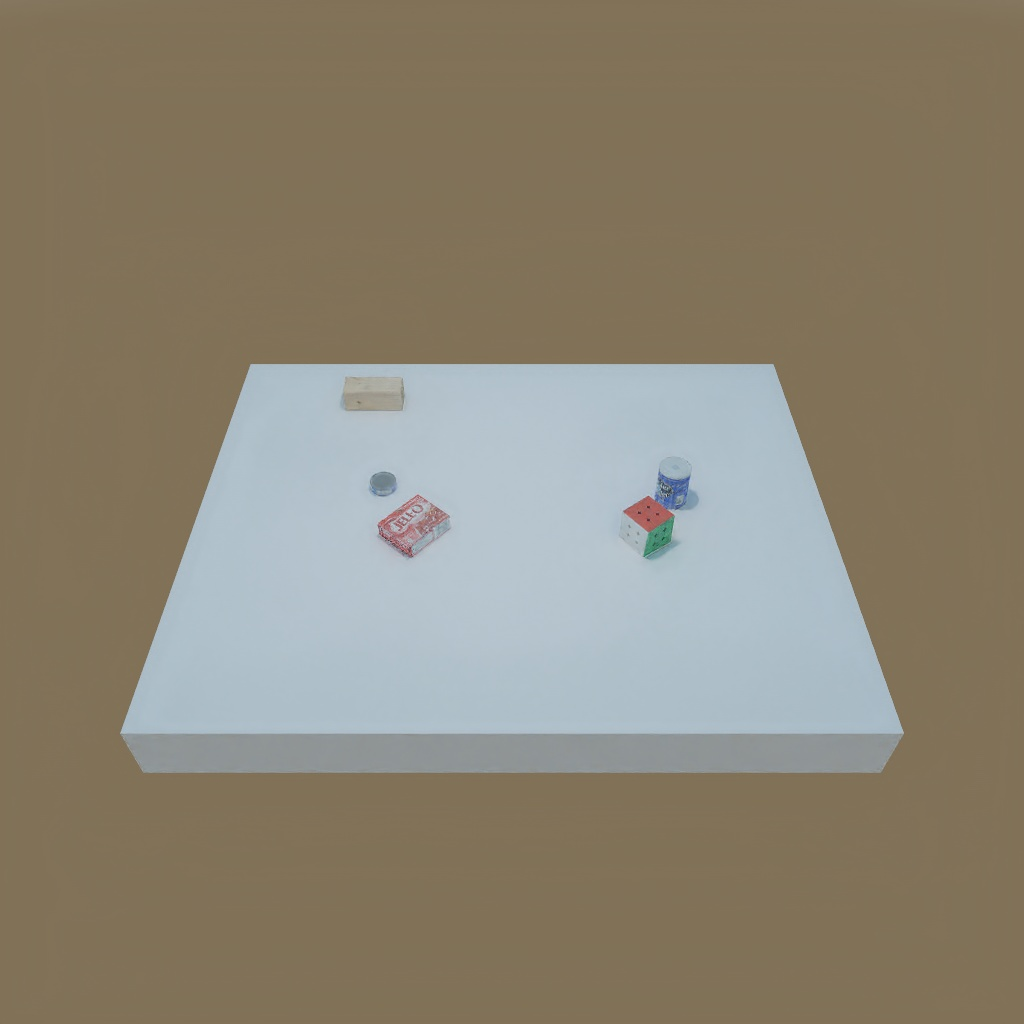gelatin_box: (376, 497, 449, 553)
master_chef_can: (651, 457, 693, 509)
rubiks_cube: (618, 496, 677, 559)
wood_block: (341, 376, 405, 415)
